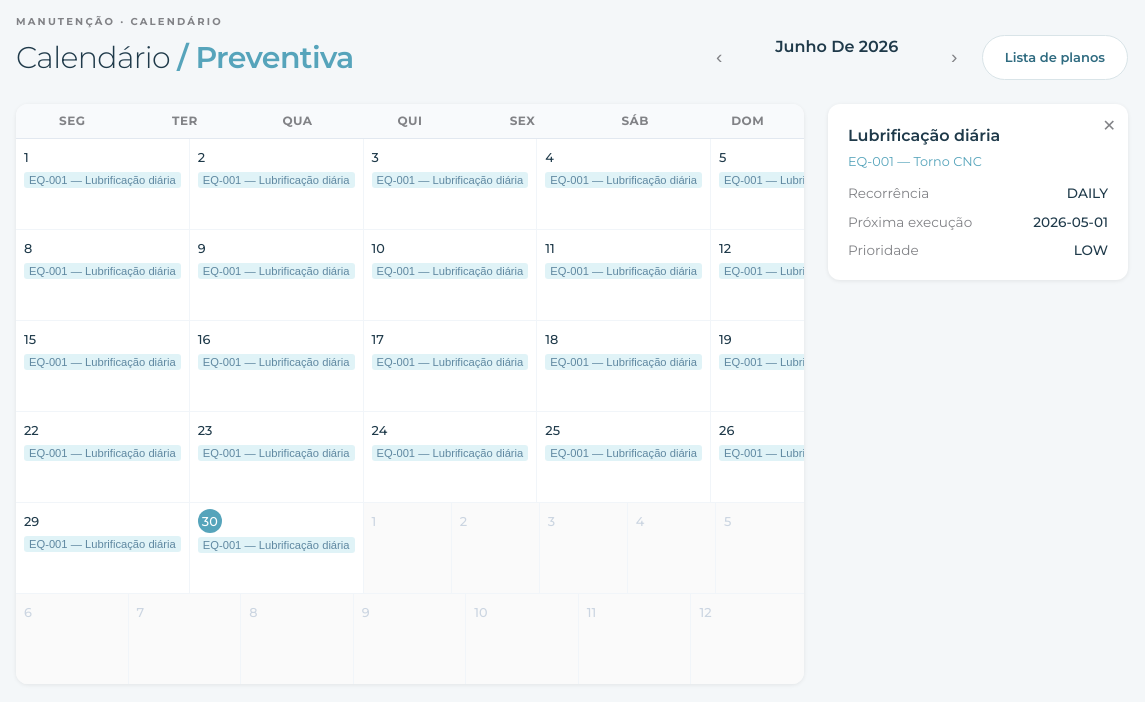
Test: MaintenanceCalendarComponent › AC-7 — detail panel › should close panel on close button click
Click the button with test id "btn-close-panel" at point(1109, 126), box left=1103, top=116, right=1116, bottom=135
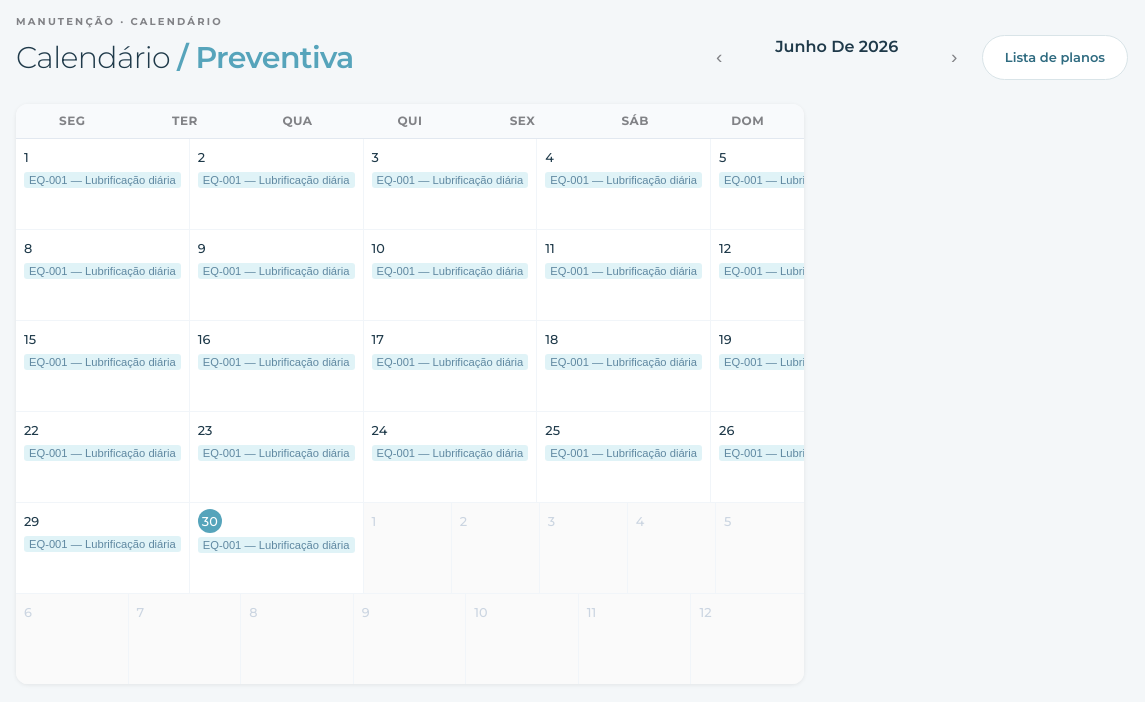
expect the element with test id "detail-panel" is gone: met
